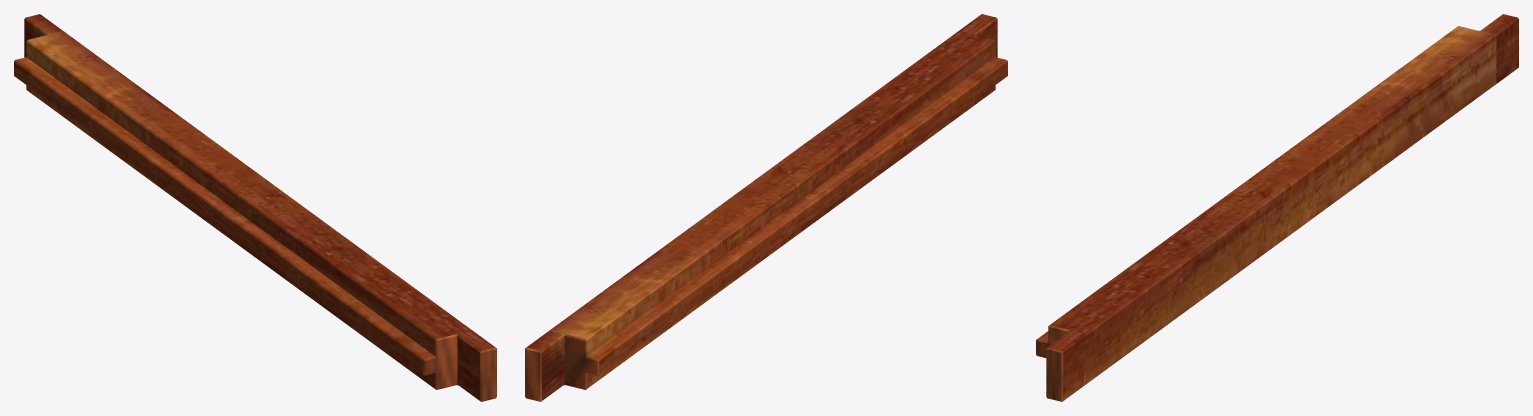
Rendered from SJ_J_zhongchougui_03.FBX.
3 views of the same model, side by side, from view 1: azimuth 30°, elevation 25°; view 2: azimuth 150°, elevation 25°; view 3: azimuth 330°, elevation 25° (orthographic).
Visible parts, largest first — view 1: SJ_J_zhongchougui_03; view 2: SJ_J_zhongchougui_03; view 3: SJ_J_zhongchougui_03.
Boxes of the visible parts, bbox=[...] form: SJ_J_zhongchougui_03: bbox=[14, 14, 496, 401]; SJ_J_zhongchougui_03: bbox=[525, 14, 1007, 401]; SJ_J_zhongchougui_03: bbox=[1036, 14, 1518, 401].
Size of the model in its own units: 2.5 by 2.4 by 39.
